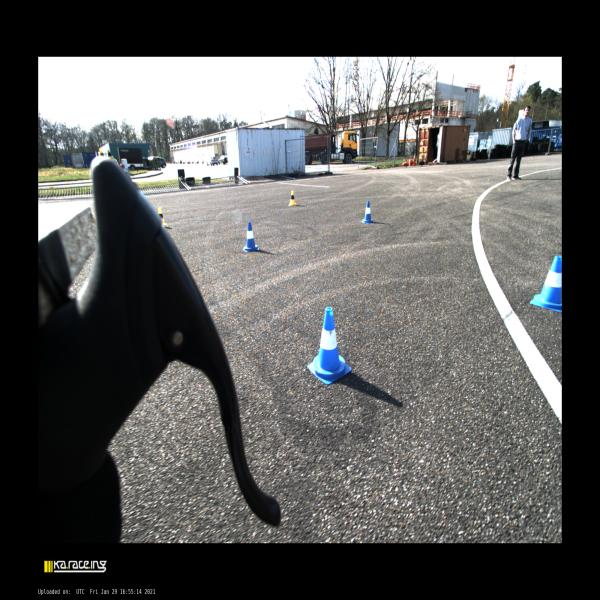blue_cone: (308, 307, 352, 385), (530, 256, 562, 312), (243, 222, 259, 252), (361, 201, 374, 223)
large_orange_cone: (409, 159, 412, 166)
orange_cone: (413, 153, 416, 160)
yellow_cone: (158, 207, 168, 227), (288, 190, 297, 206)
